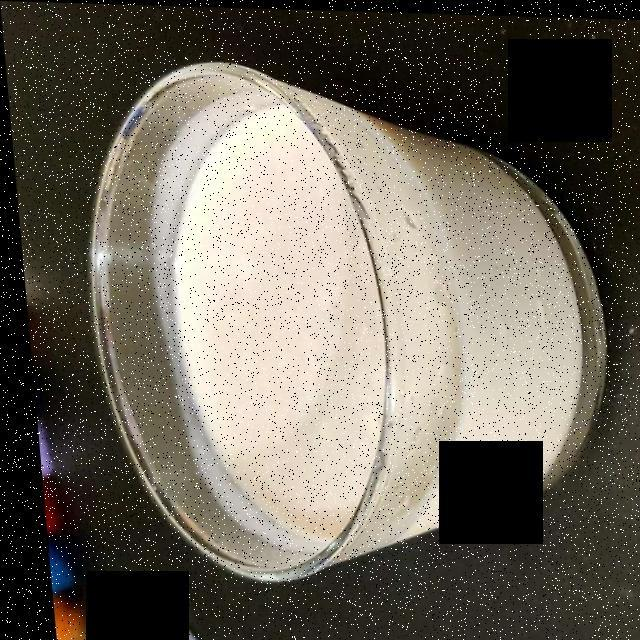panna-cotta: (162, 86, 570, 539), (166, 110, 420, 526)
